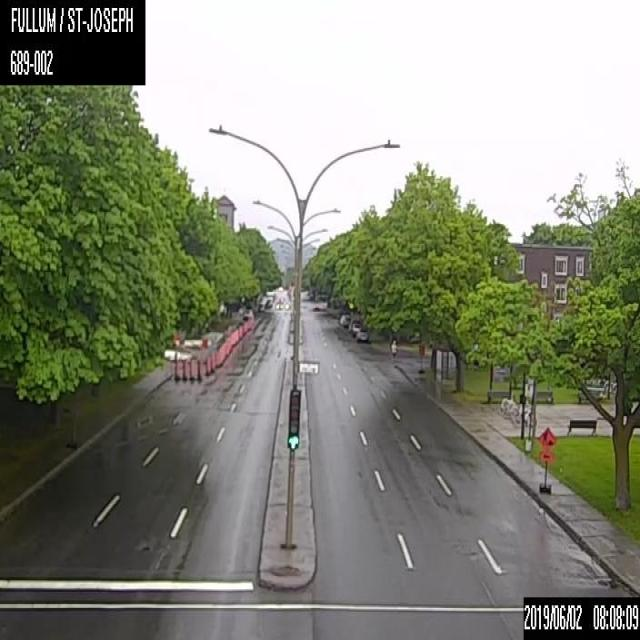construction: (536, 427, 558, 492), (171, 357, 180, 380), (180, 358, 187, 380), (188, 358, 195, 379), (195, 358, 202, 379), (204, 356, 210, 374), (201, 338, 207, 348)
pedestrian: (390, 338, 397, 362)
vehicle: (356, 328, 369, 343), (339, 313, 350, 326), (351, 322, 362, 335)
